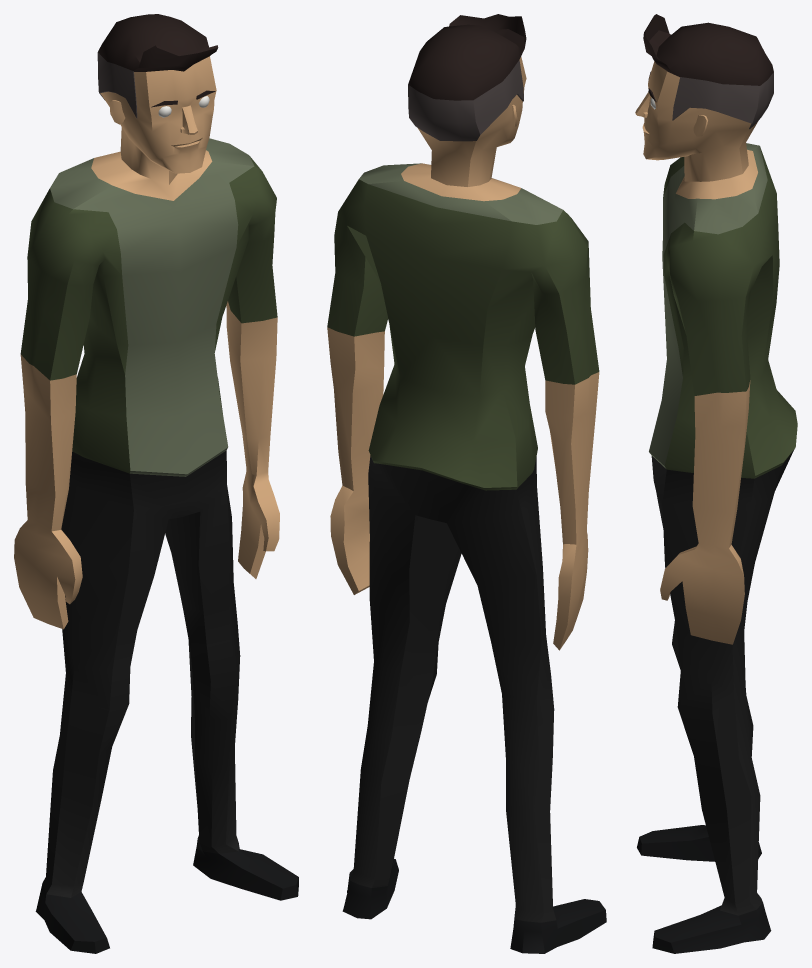
Rendered from male_shirt.glb.
3 views of the same model, side by side, from view 1: azimuth 30°, elevation 25°; view 2: azimuth 150°, elevation 25°; view 3: azimuth 270°, elevation 25° (orthographic). The views are drawn at different scales.
Visible parts, largest first — view 1: MaleShirt; view 2: MaleShirt; view 3: MaleShirt.
Part boxes in pixels (x1,y1,x2,y2): MaleShirt: (14, 14, 298, 953); MaleShirt: (327, 14, 606, 953); MaleShirt: (635, 14, 797, 953).
Bounding box in the file's own units: 0.5307 × 1.8 × 0.3055.
